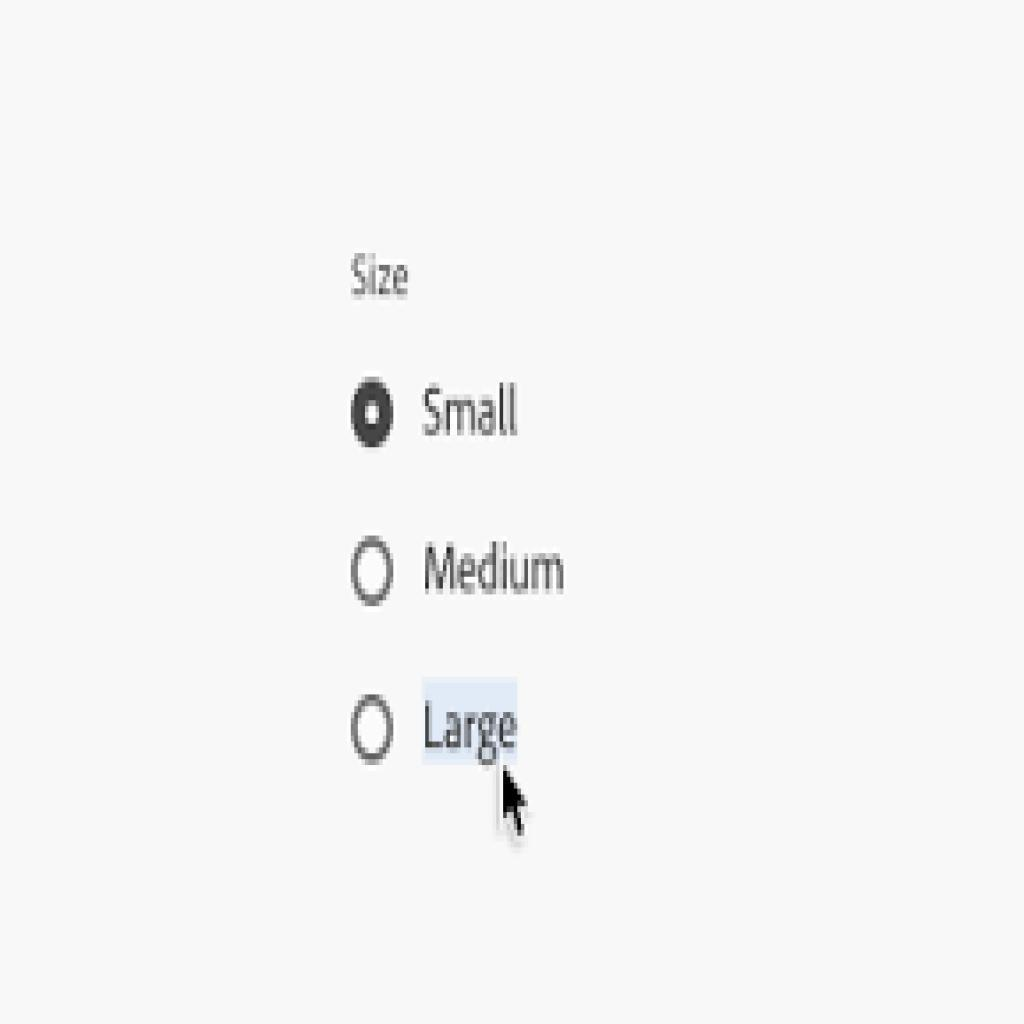radio: (347, 538, 402, 608), (352, 695, 397, 771), (352, 378, 396, 451)
